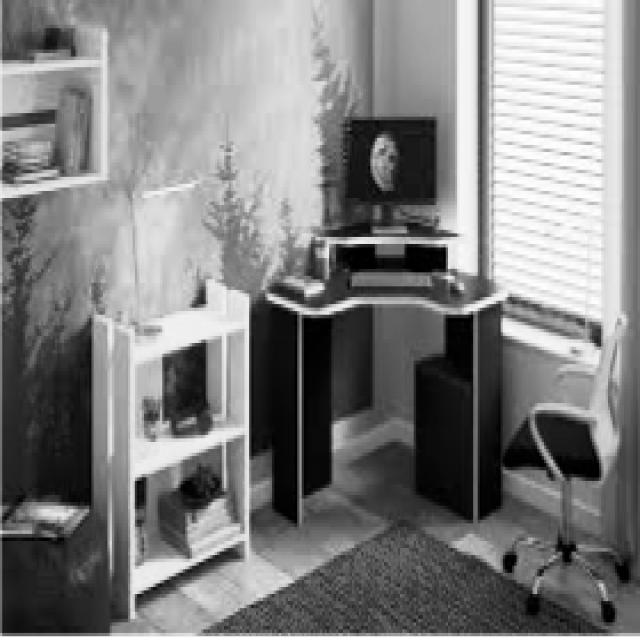book: (501, 308, 628, 622)
table: (263, 262, 507, 527)
